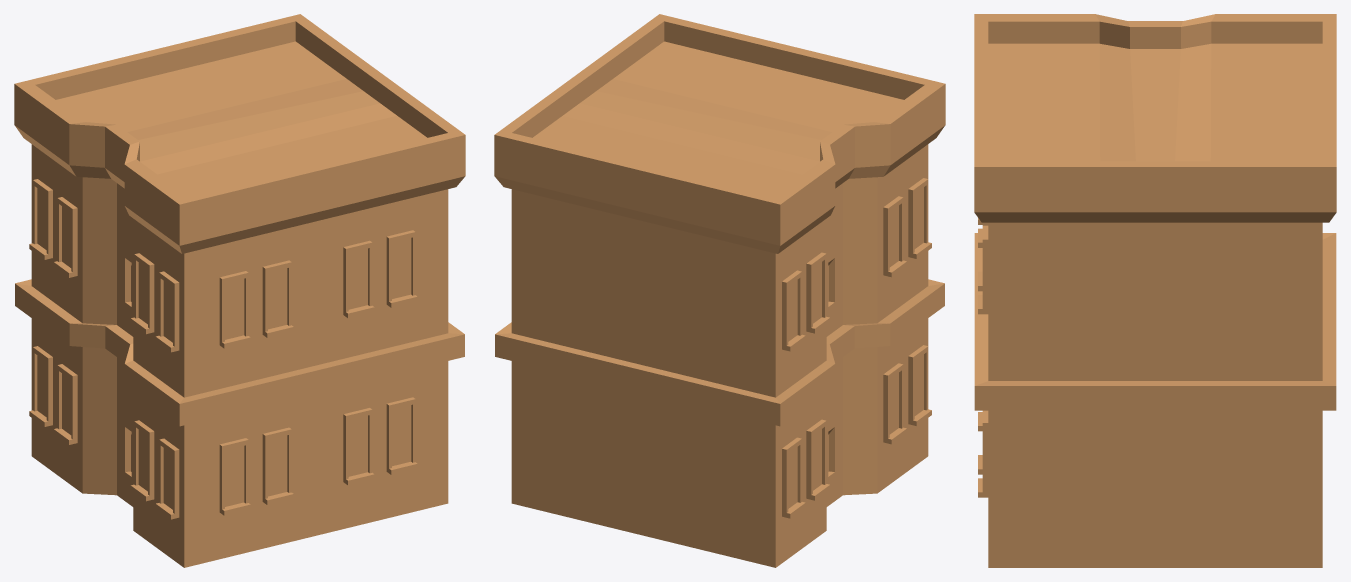
Rendered from officeMatrange.fbx.
The picture shows the model from 3 angles, left to right: view 1: azimuth 30°, elevation 25°; view 2: azimuth 150°, elevation 25°; view 3: azimuth 270°, elevation 25°; orthographic projection. The views are drawn at different scales.
Parts seen in each view (by area): view 1: Cube.035; view 2: Cube.035; view 3: Cube.035.
Boxes of the visible parts, x1,y1,x2,y2 form: Cube.035: (14, 14, 465, 567); Cube.035: (494, 14, 945, 567); Cube.035: (974, 14, 1336, 567).
Size of the model in its own units: 80 by 100 by 80.
